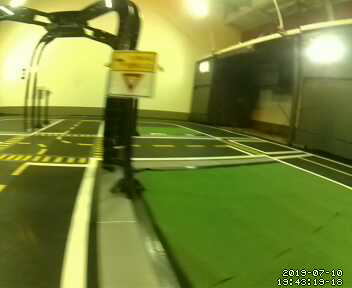Turn Yield: (104, 48, 159, 97)
